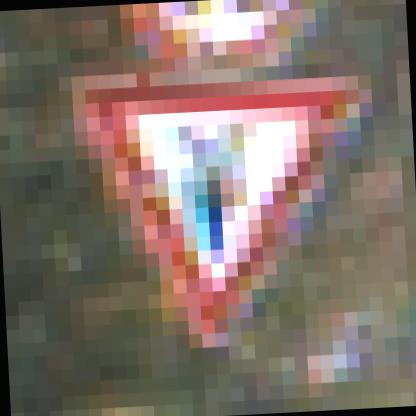crosswalk: (66, 46, 346, 324)
